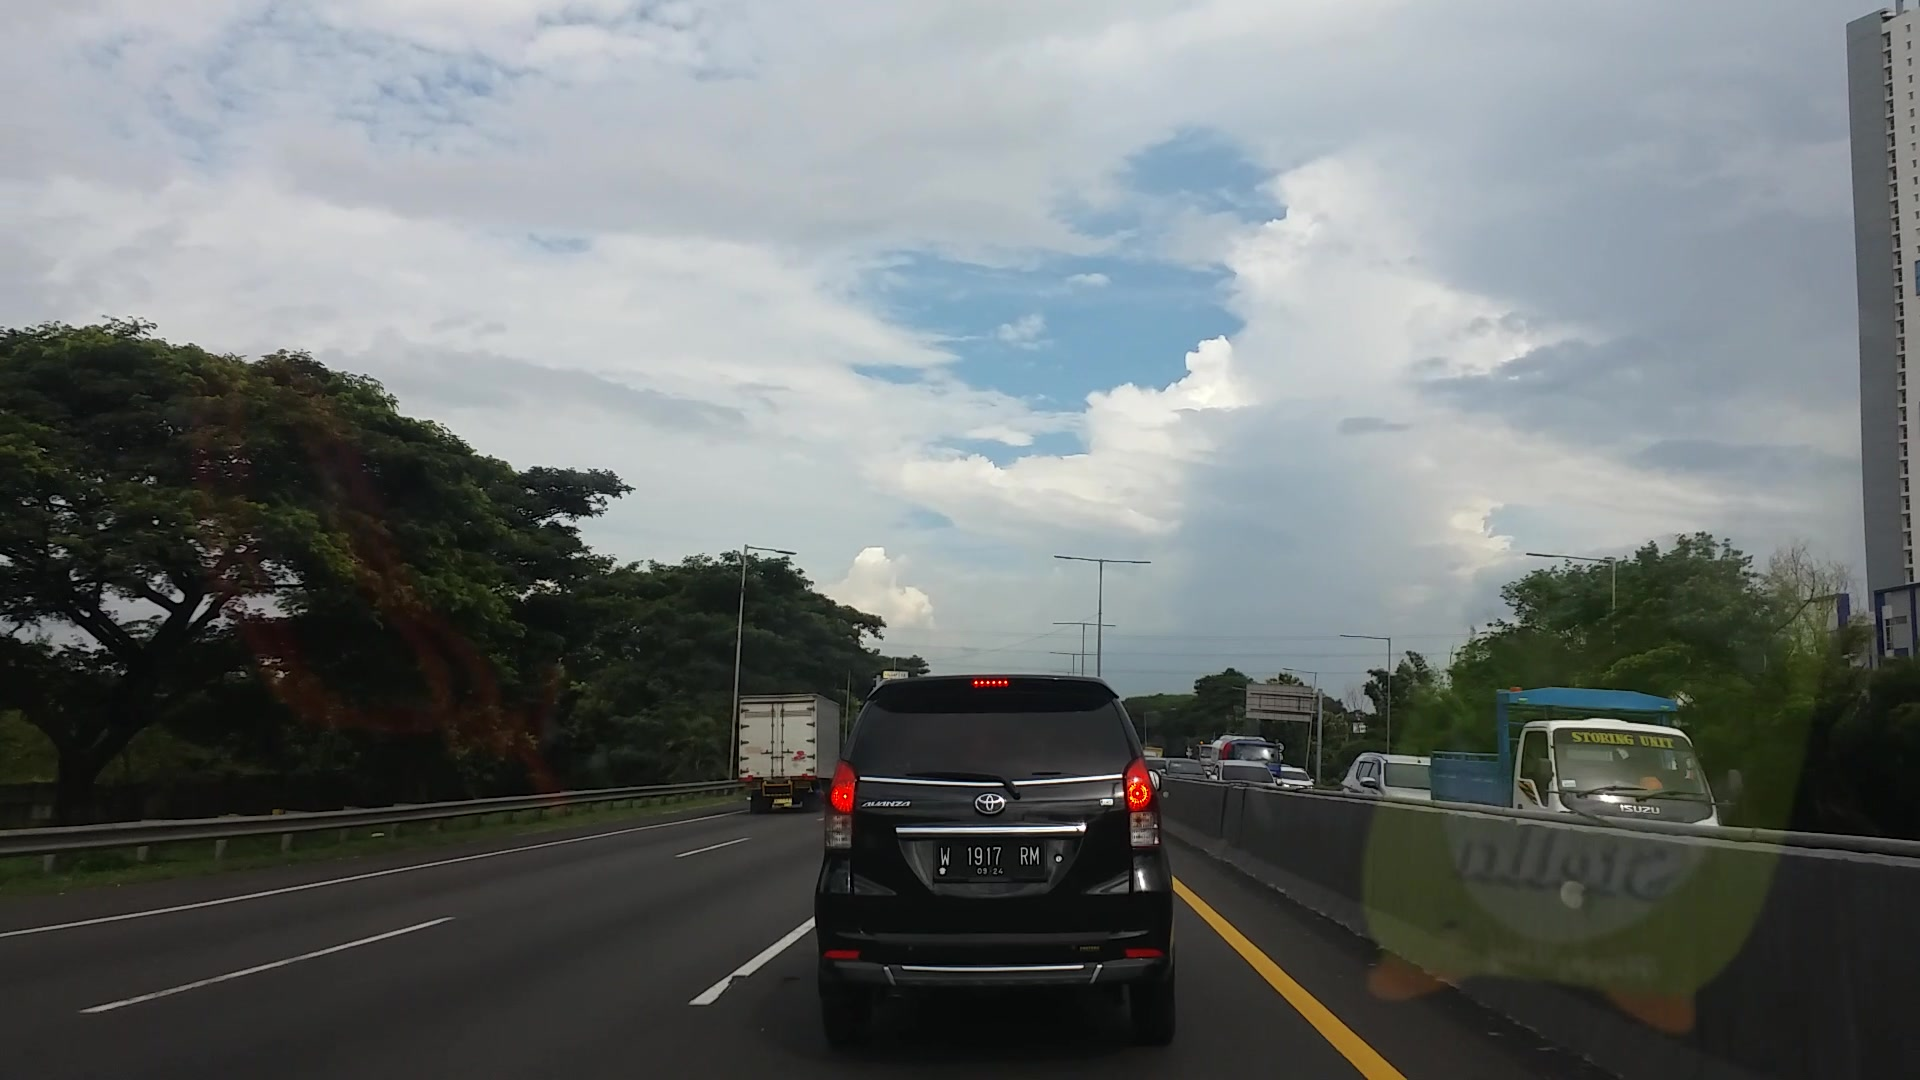plate_positive: (935, 839, 1047, 884)
